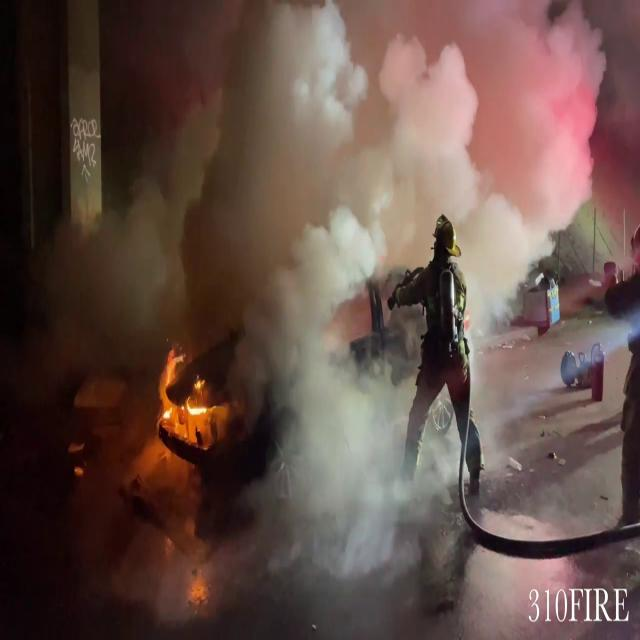Fire: (154, 343, 224, 446)
Smoke: (6, 1, 614, 565)
